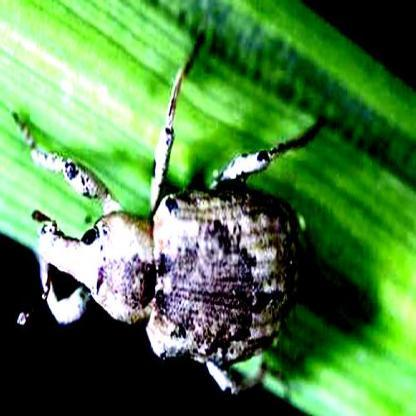rice-bug: (27, 89, 296, 374)
